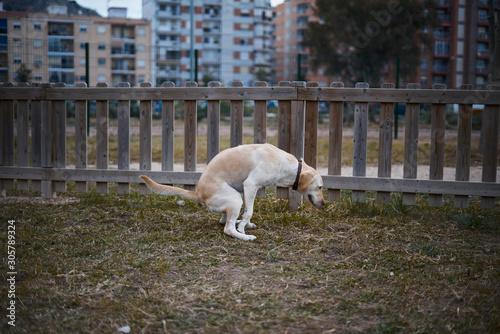dog_pooping: (137, 139, 330, 242)
